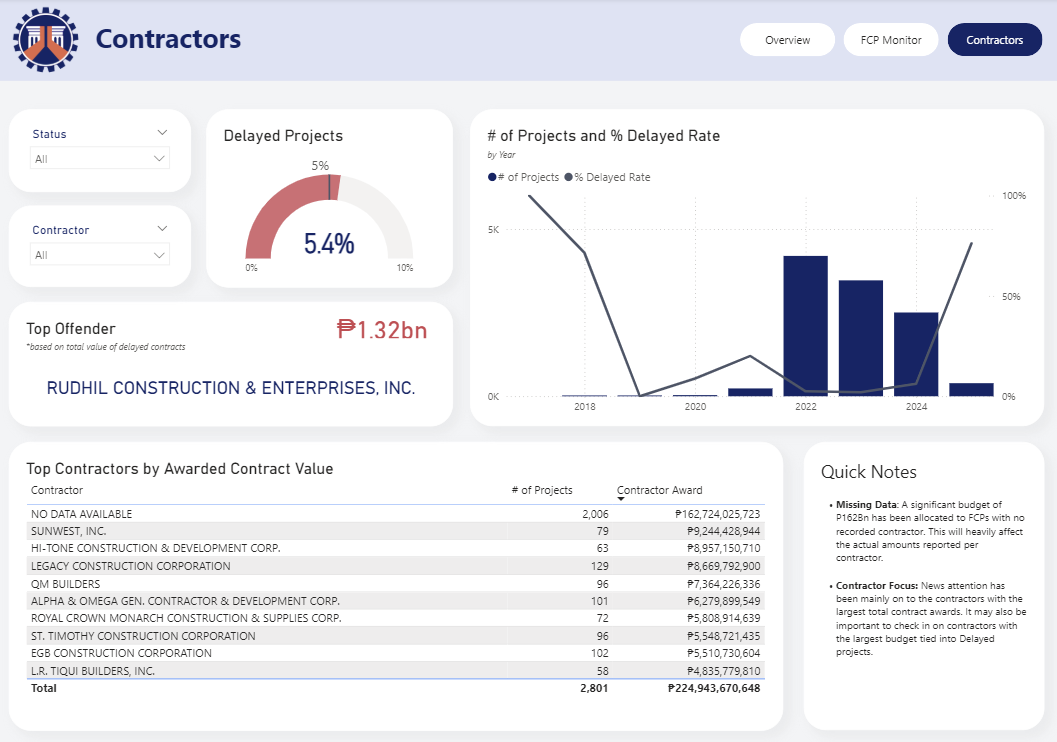

The page's visual inventory and layout, read from the dashboard file:
{"tool":"powerbi","page":{"name":"Contractors","canvas":[1280,900],"ordinal":2},"visuals":[{"type":"shape","box":[0,0,1280,100],"z":0,"group":"g1"},{"type":"image","box":[0,0,110,100],"z":1000,"group":"g1"},{"type":"group","id":"g1","title":"Header","box":[0,0,1280,100],"z":2000},{"type":"textbox","box":[110,21.4,258.6,55.7],"z":2000,"group":"g1"},{"type":"tableEx","title":"Top Contractors by Awarded Contract Value","fields":{"Values":["D_Contractors.Contractor","M_Table.# of Projects","M_Table.Contractor Award"]},"box":[10,535.7,934.3,348.6],"z":3000},{"type":"textbox","box":[970,536,290,348],"z":4000},{"type":"gauge","title":"Delayed Projects","fields":{"Y":["M_Table.% On-Time Rate"]},"box":[248.8,133.8,297.5,215],"z":4001},{"type":"card","title":"Top Offender","fields":{"Values":["Min(D_Contractors.ContractorName)"]},"box":[10,366.2,536.2,150],"z":4002},{"type":"lineStackedColumnComboChart","fields":{"Category":["Date Table.Date Hierarchy.Year"],"Y2":["M_Table.% Delayed Rate"],"Y":["M_Table.# of Projects"]},"box":[567.7,134,692.9,382.6],"z":4003},{"type":"slicer","fields":{"Values":["F_Projects.Status"]},"box":[10,133.8,220,100],"z":4005},{"type":"slicer","fields":{"Values":["D_Contractors.Contractor"]},"box":[10,250,220,98.8],"z":4006},{"type":"card","title":"Top Offender","fields":{"Values":["M_Table.Contractor Award"]},"box":[377.5,366.2,168.8,53.8],"z":4007},{"type":"pageNavigator","box":[893.3,30,366.7,40],"z":16000,"group":"g1"}]}

Visuals, with their boxes in screenshot pixels (x1, y1, x2, y2), scaled from the page's 1280x900 canvas onto the 1057x742 screenshot:
shape: bbox(0, 0, 1056, 82)
image: bbox(0, 0, 91, 82)
"Header" group: bbox(0, 0, 1056, 82)
textbox: bbox(91, 18, 304, 64)
"Top Contractors by Awarded Contract Value" tableEx: bbox(8, 442, 780, 729)
textbox: bbox(801, 442, 1040, 729)
"Delayed Projects" gauge: bbox(205, 110, 451, 288)
"Top Offender" card: bbox(8, 302, 451, 426)
lineStackedColumnComboChart - Date Table.Date Hierarchy.Year x M_Table.% Delayed Rate: bbox(469, 110, 1041, 426)
slicer - F_Projects.Status: bbox(8, 110, 190, 193)
slicer - D_Contractors.Contractor: bbox(8, 206, 190, 288)
"Top Offender" card: bbox(312, 302, 451, 346)
pageNavigator: bbox(738, 25, 1040, 58)
